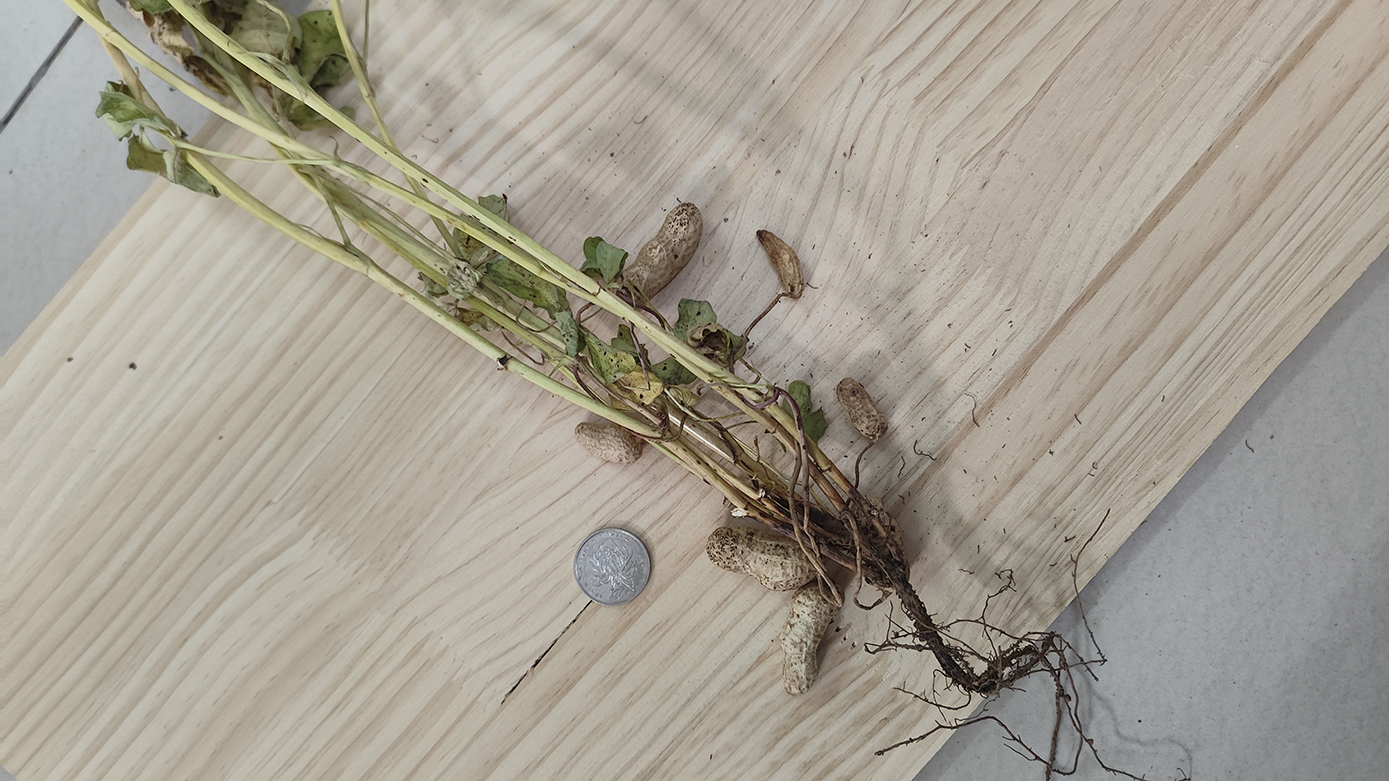h: (618, 202, 704, 306), (706, 524, 820, 589), (779, 585, 835, 695), (836, 374, 888, 443), (573, 420, 644, 463), (855, 496, 903, 552)
l: (757, 229, 804, 298)
